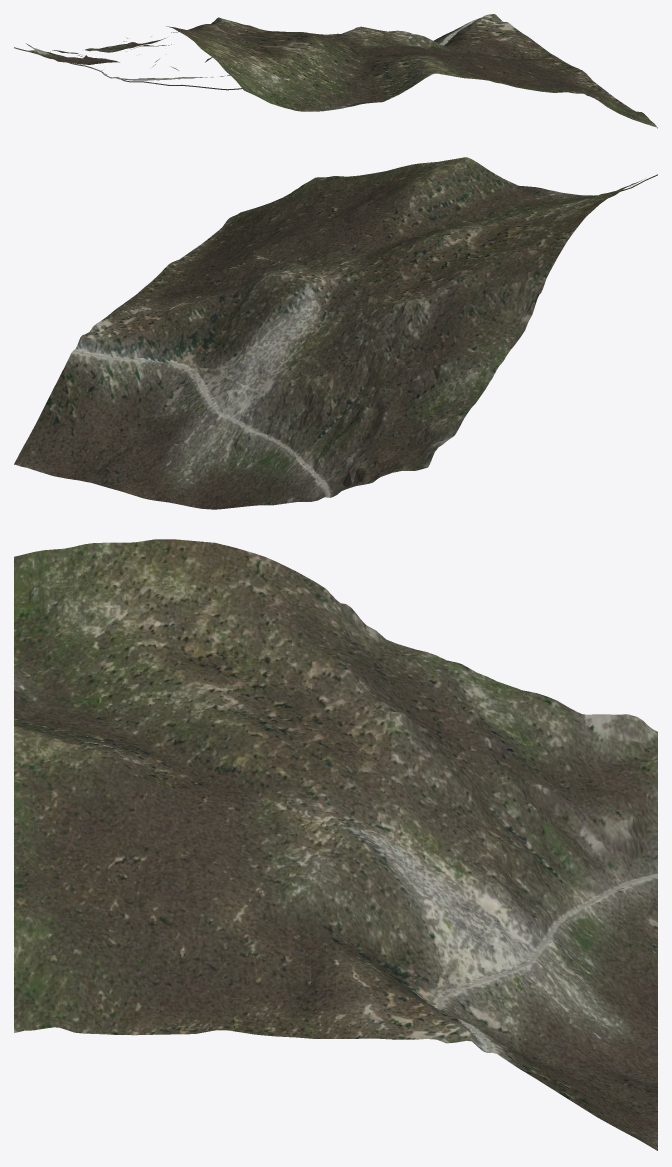
3 views of the same model, one above another, from view 1: azimuth 30°, elevation 25°; view 2: azimuth 150°, elevation 25°; view 3: azimuth 270°, elevation 25° (orthographic). The views are drawn at different scales.
Bounding box in the file's own units: 1000 × 551 × 963.
1 material, 1 textured.
